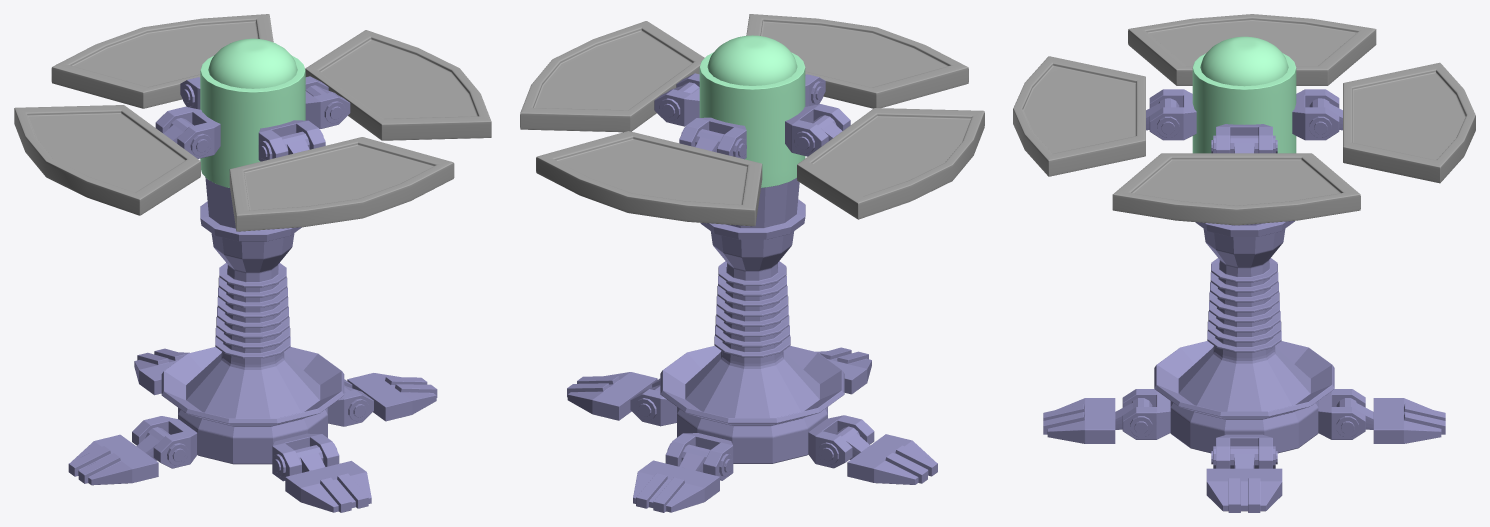
File: SolarFull.fbx
3 renders of one model, left to right at view 1: azimuth 30°, elevation 25°; view 2: azimuth 150°, elevation 25°; view 3: azimuth 270°, elevation 25°, orthographic.
Visible parts, largest first — view 1: MainBody1, SolarPanel04, SolarPanel07, SolarPanel05, SolarPanel06, TurbineBody, TopLight, Toe6, Toe4, Toe7, Frame4, Frame10 (+10 smaller); view 2: MainBody1, SolarPanel06, SolarPanel07, SolarPanel05, SolarPanel04, TurbineBody, TopLight, Toe5, Toe4, Toe7, Frame4, Frame10 (+10 smaller); view 3: MainBody1, SolarPanel05, SolarPanel06, SolarPanel04, SolarPanel07, TurbineBody, TopLight, Toe7, Toe6, Toe5, Frame5, Frame11 (+10 smaller).
Part boxes in pixels (x1,y1,x2,y2): MainBody1: (161,177,344,464); SolarPanel04: (229,137,454,231); SolarPanel07: (14,105,200,215); SolarPanel05: (305,30,491,140); SolarPanel06: (51,14,273,108); TurbineBody: (200,56,305,187); TopLight: (208,38,297,88); Toe6: (285,461,371,512); Toe4: (68,434,158,485); Toe7: (347,373,437,421); Frame4: (132,416,197,468); Frame10: (155,106,220,158); MainBody1: (660,178,844,463); SolarPanel06: (536,131,762,226); SolarPanel07: (797,108,984,219); SolarPanel05: (520,21,704,132); SolarPanel04: (746,14,968,108); TurbineBody: (699,52,805,187); TopLight: (707,35,797,85); Toe5: (633,460,719,512); Toe4: (847,434,937,484); Toe7: (567,372,657,420); Frame4: (808,415,874,468); Frame10: (785,104,850,156); MainBody1: (1154,221,1334,453); SolarPanel05: (1112,153,1360,225); SolarPanel06: (1343,62,1475,183); SolarPanel04: (1013,56,1145,176); SolarPanel07: (1128,14,1376,85); TurbineBody: (1192,53,1296,153); TopLight: (1200,36,1288,86); Toe7: (1206,468,1282,512); Toe6: (1043,398,1115,443); Toe5: (1373,398,1445,443); Frame5: (1122,389,1170,439); Frame11: (1149,89,1196,140).
Size of the model in its own units: 23.74 by 21.76 by 23.74.
